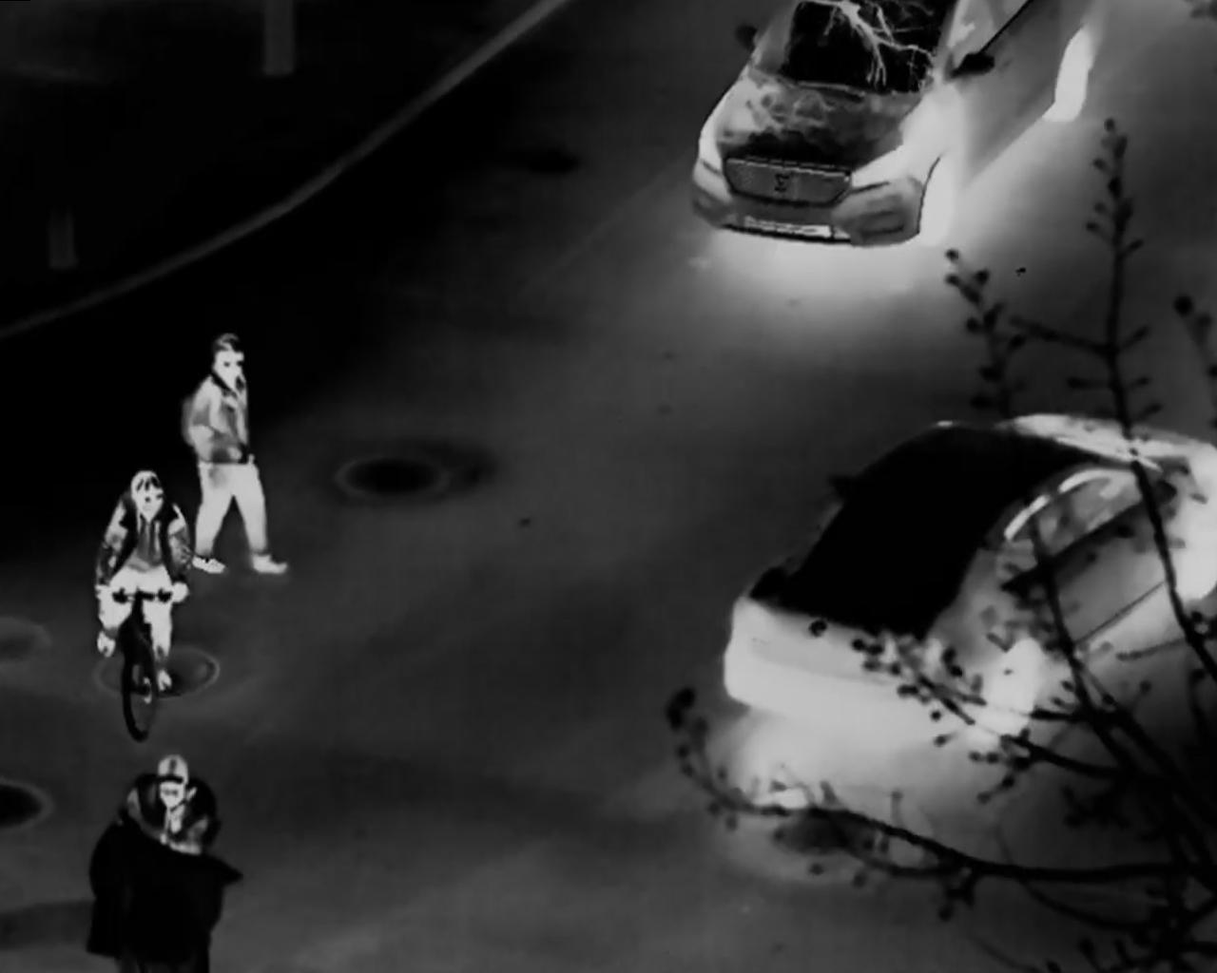person: (181, 331, 289, 578), (94, 465, 192, 694), (124, 754, 222, 857)
